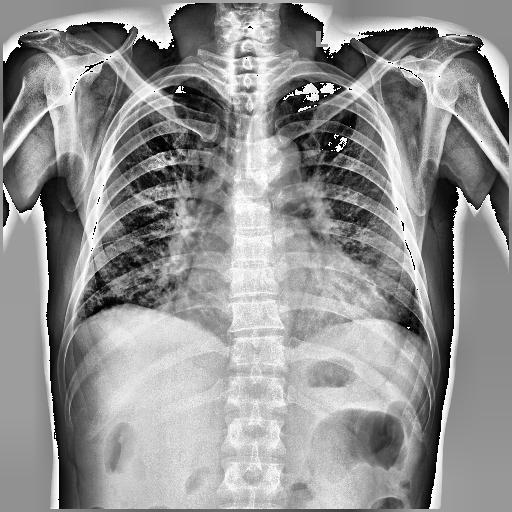0- Aortic enlargement: (254, 136, 302, 202), (248, 136, 300, 190)
3- Cardiomegaly: (180, 268, 400, 332), (182, 264, 386, 322), (178, 272, 388, 324)
9- Other lesion: (83, 283, 104, 303)
